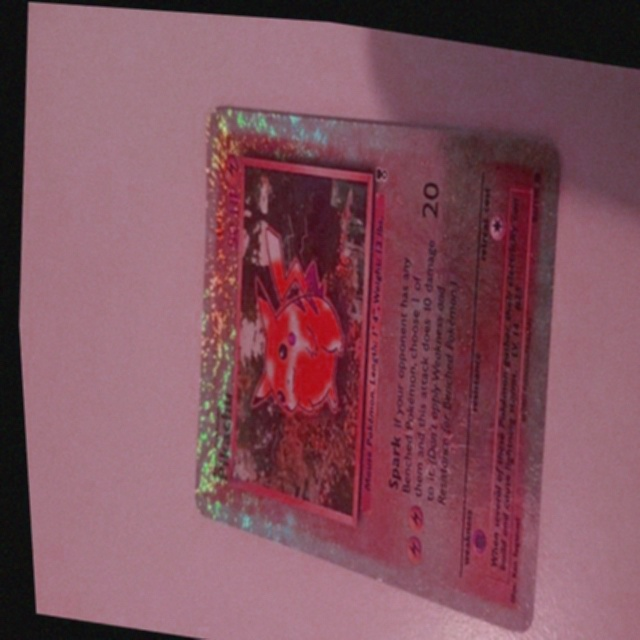card: (187, 102, 558, 628)
